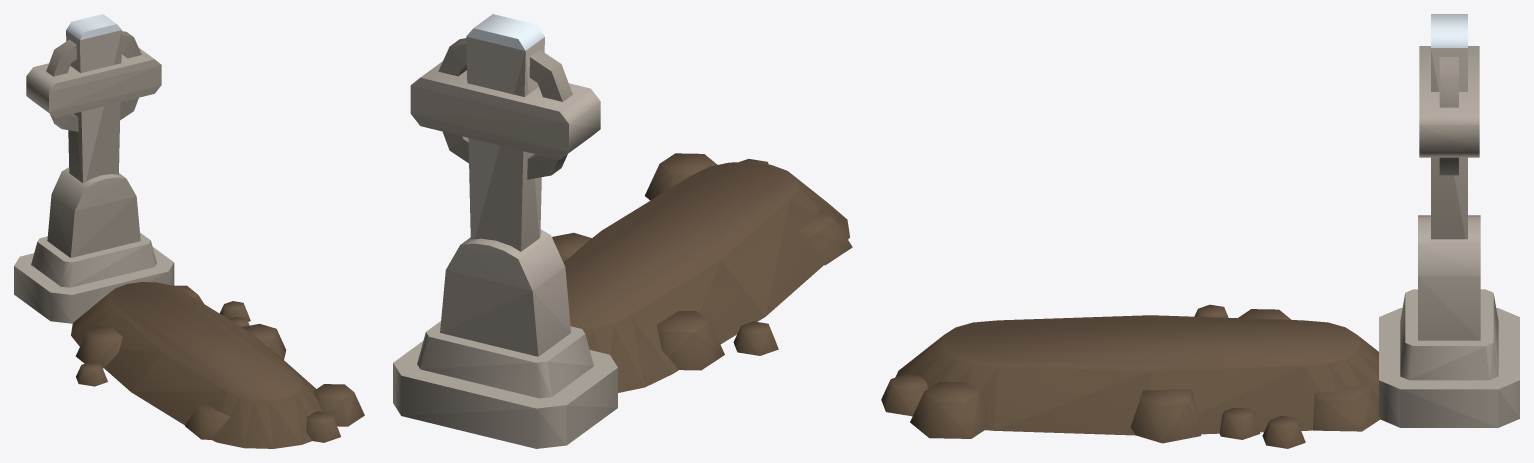
Rendered from kenney_graveyard_grave_gravestone_cross_large.glb.
3 views of the same model, side by side, from view 1: azimuth 30°, elevation 25°; view 2: azimuth 150°, elevation 25°; view 3: azimuth 270°, elevation 25° (orthographic). The views are drawn at different scales.
Visible parts, largest first — view 1: stone (×2), cloth; view 2: stone (×2), cloth; view 3: stone (×2), cloth.
Part boxes in pixels (x1=…): stone (×2): x1=14, y1=30, x2=364, y2=448; cloth: x1=66, y1=14, x2=121, y2=40; stone (×2): x1=393, y1=36, x2=852, y2=448; cloth: x1=466, y1=14, x2=544, y2=50; stone (×2): x1=881, y1=46, x2=1519, y2=448; cloth: x1=1431, y1=14, x2=1467, y2=47.
Bounding box in the file's own units: 0.7238 × 0.9383 × 1.5.
